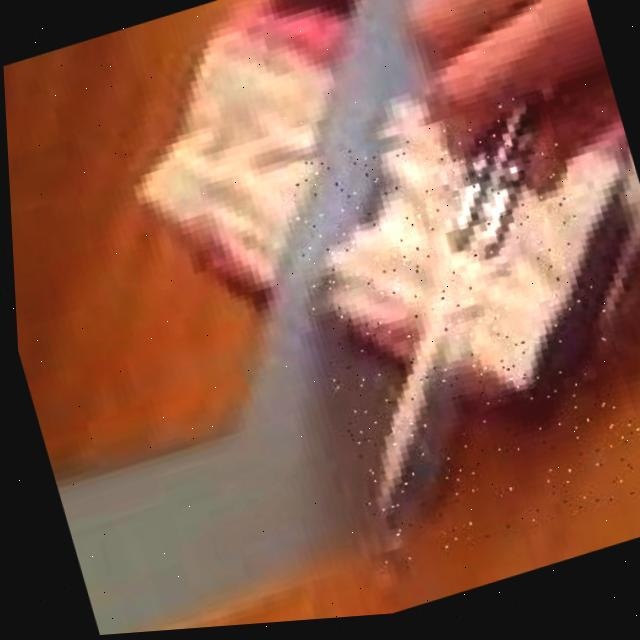knife: (266, 92, 640, 585)
